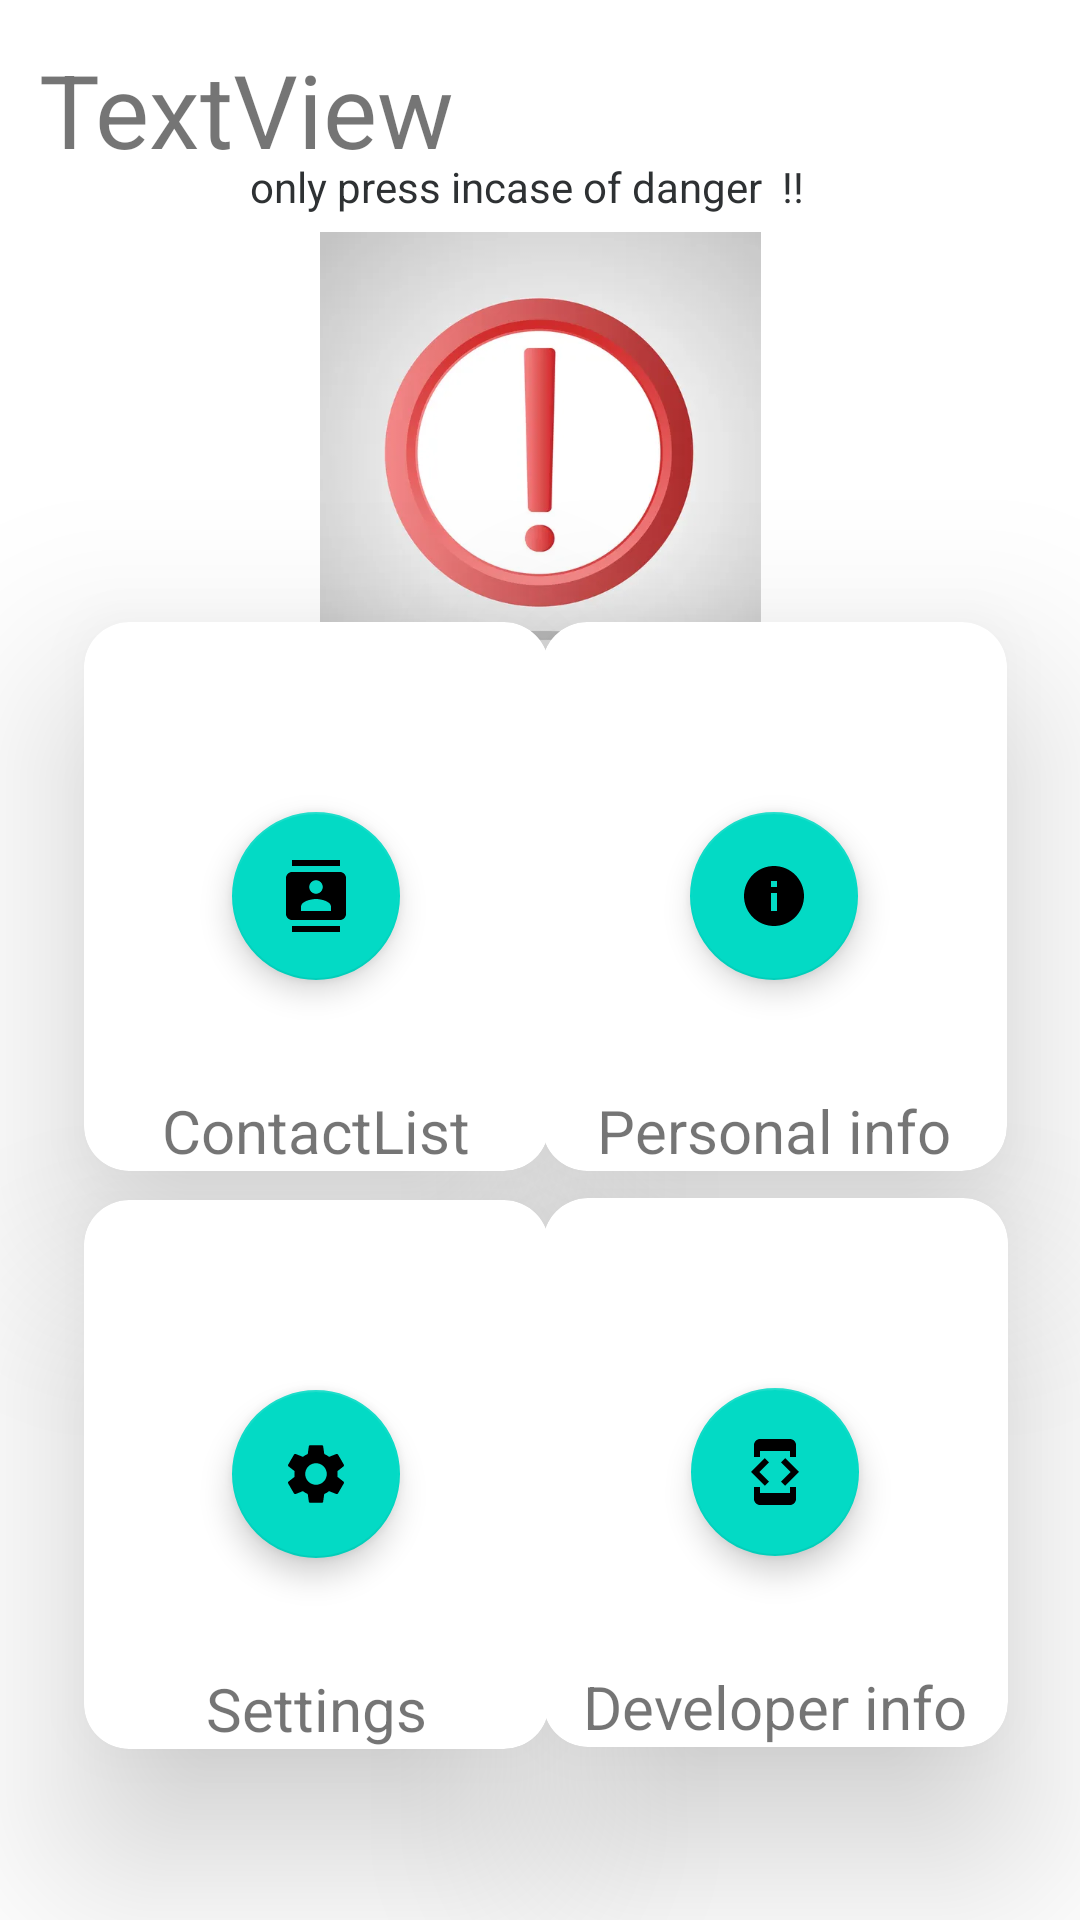

Icons on this 1080px×1920px Android screen, each with its box as bbox=[x1, y1, x2, y2]:
contactsemergency: bbox=[232, 812, 400, 980]
developer mode: bbox=[691, 1388, 859, 1556]
